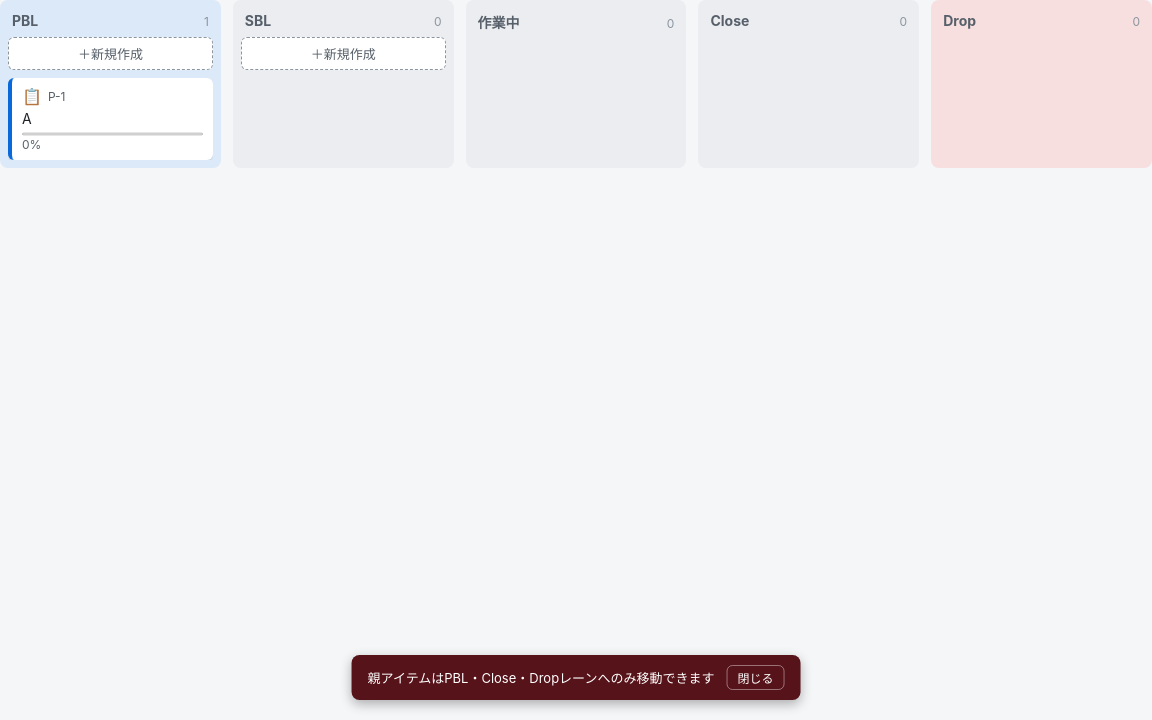
BoardView › 移動できないD&Dは通知が表示され、閉じるボタンで消せる
Expected: the message shows "親アイテムはPBL・Close・Dropレーンへのみ移動できます", [368,670,714,686]
Click the button "閉じる". click: (755, 678)
box: [726,665,784,690]
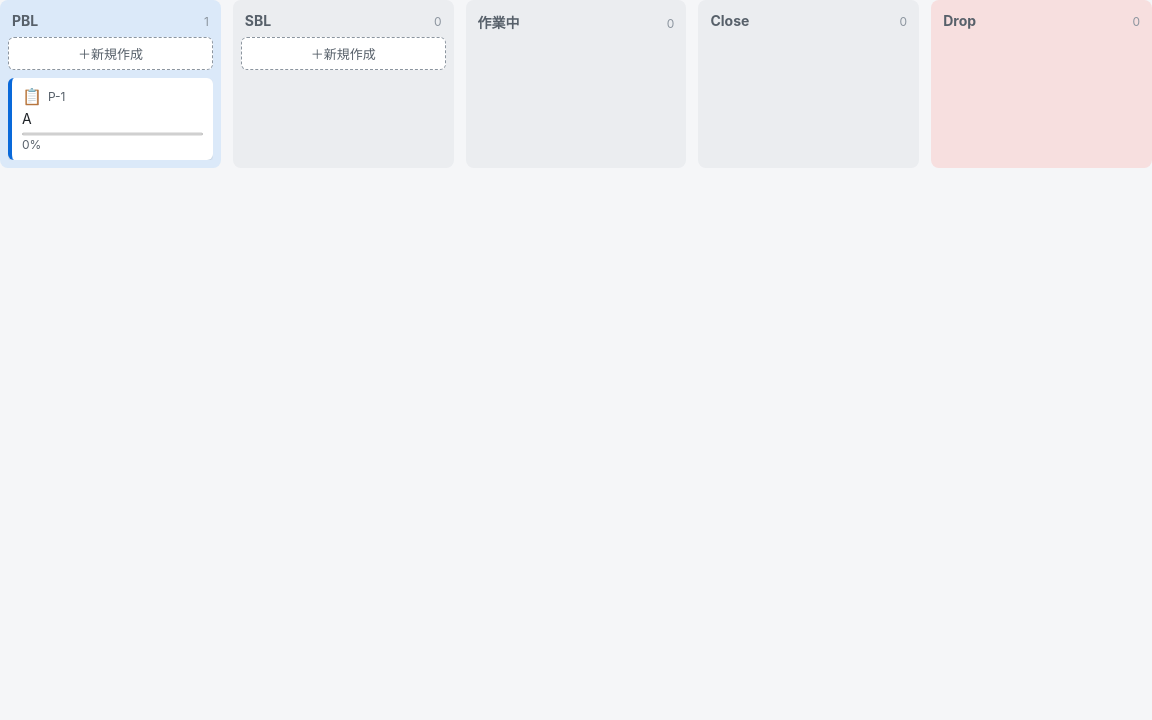
Expected: the message "親アイテムはPBL・Close・Dropレーンへのみ移動できます 閉じる" is gone
